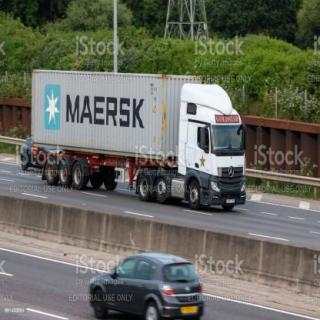Normal_vehicle: (28, 66, 248, 213)
